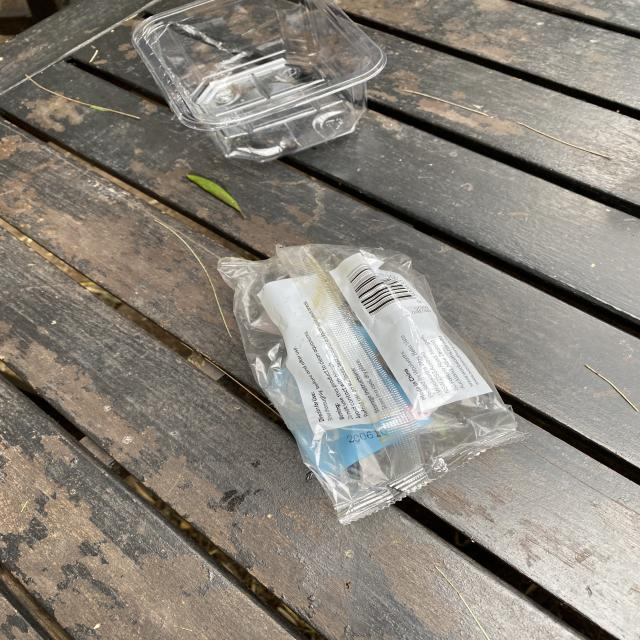bag: (216, 240, 525, 514)
cup: (131, 0, 391, 160)
